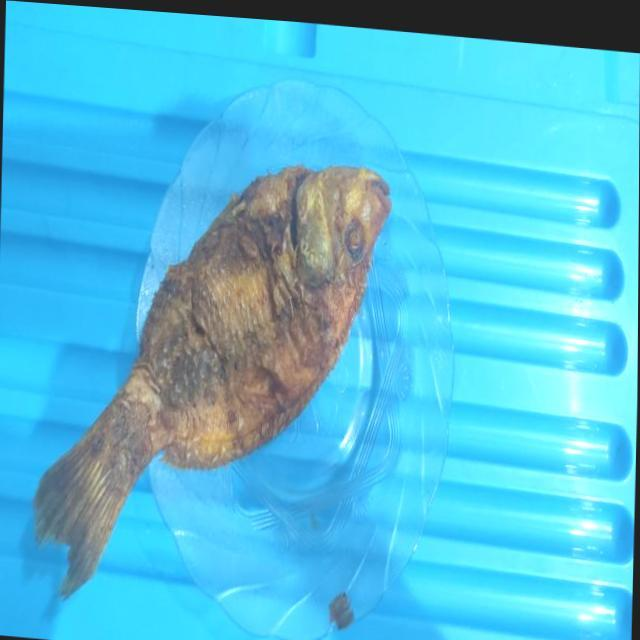ikan_mujair: (32, 164, 390, 598)
